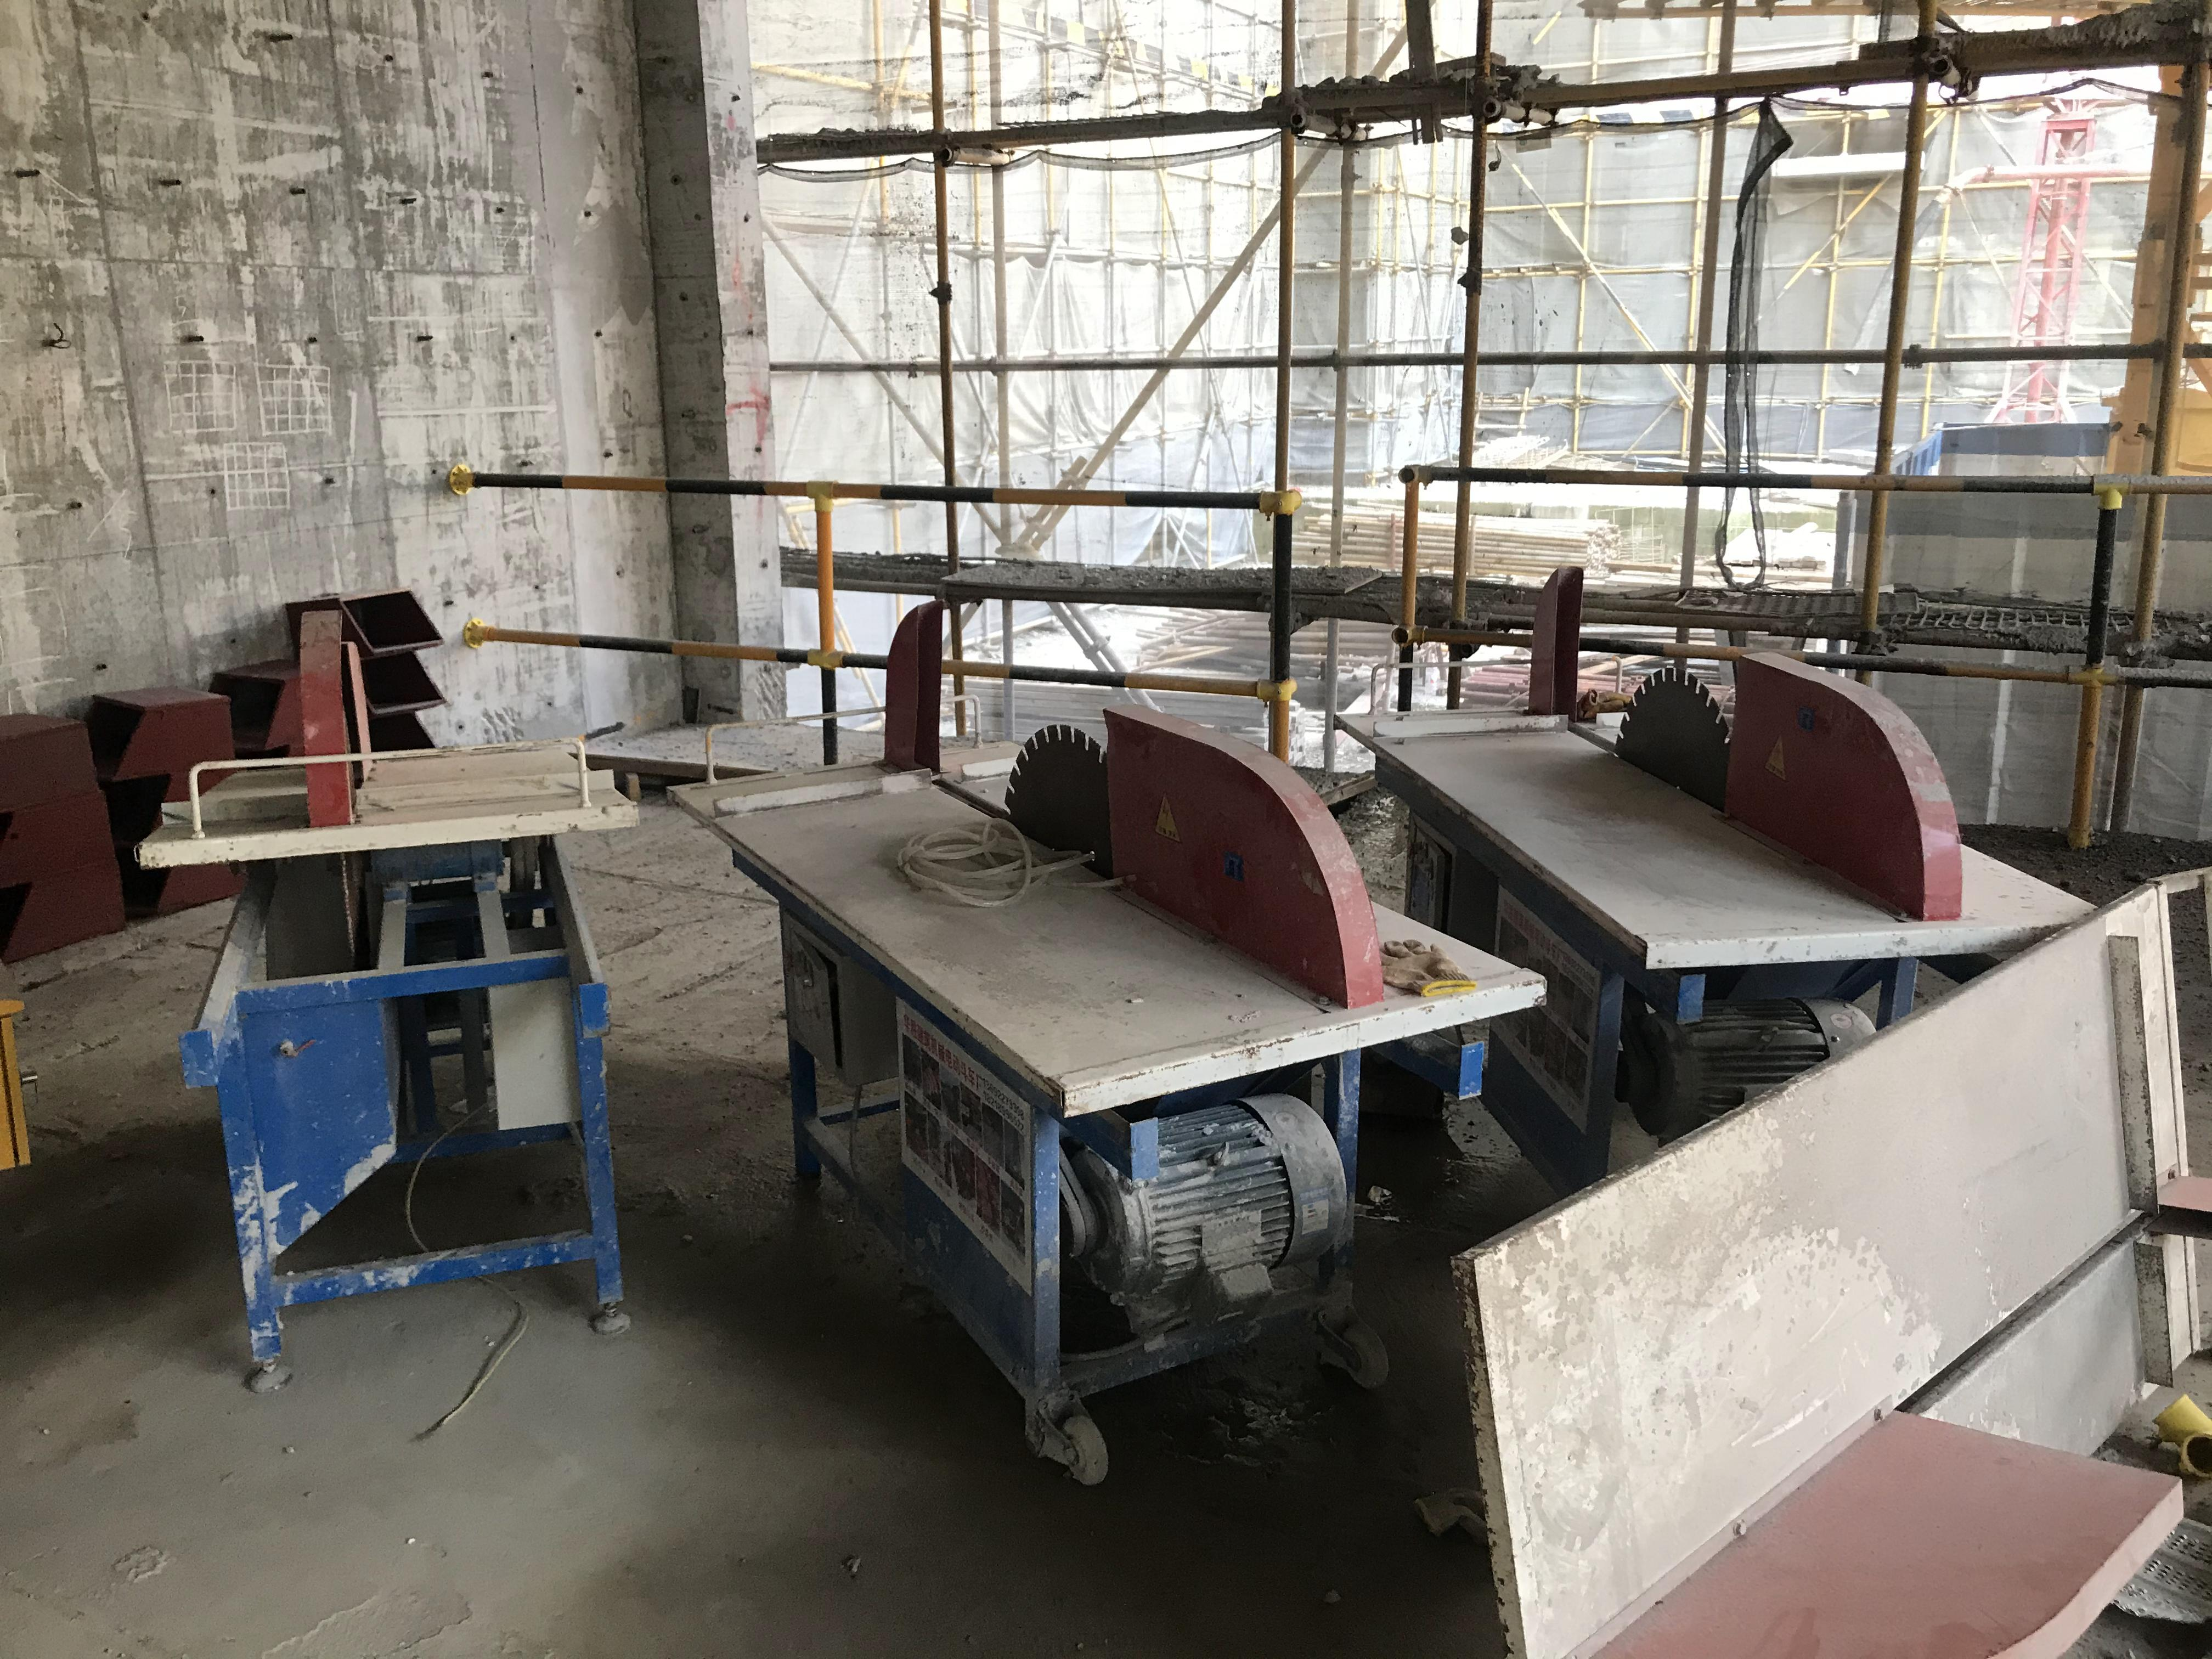cutter: (674, 594, 1541, 1425), (152, 608, 648, 1384), (1336, 643, 2087, 1065)
